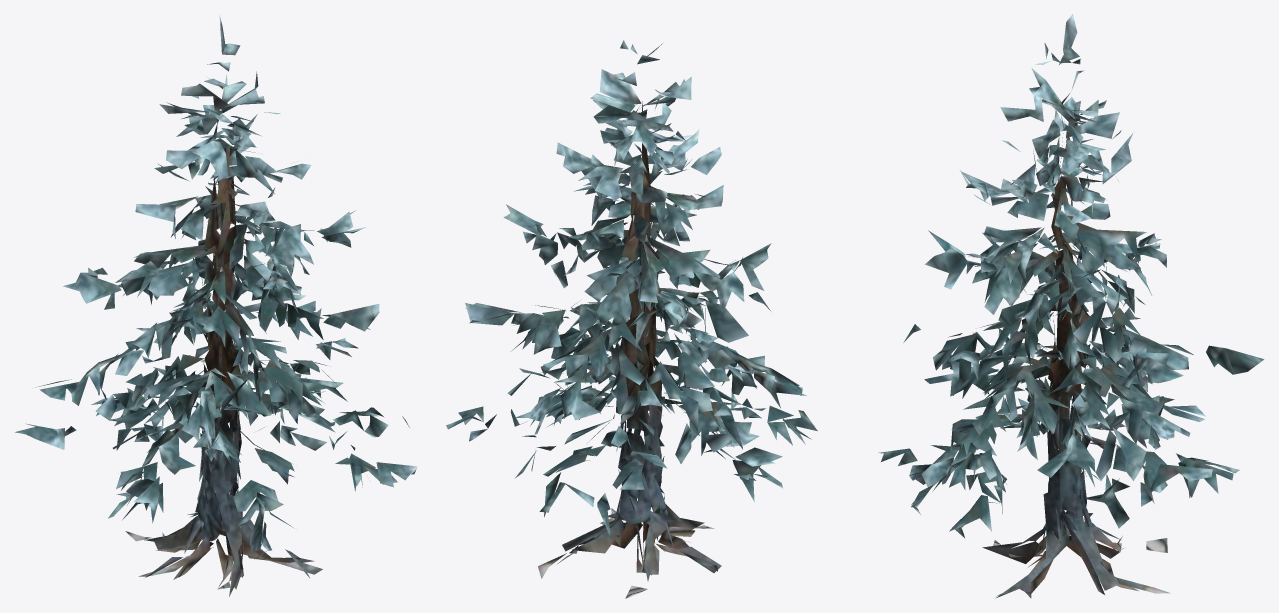
The model's file is abeto_geada_adulta-lod.glb.
3 renders of one model, left to right at view 1: azimuth 30°, elevation 25°; view 2: azimuth 150°, elevation 25°; view 3: azimuth 270°, elevation 25°, orthographic. The views are drawn at different scales.
Parts seen in each view (by area): view 1: geometry_0.004; view 2: geometry_0.004; view 3: geometry_0.004.
Boxes of the visible parts, x1,y1,x2,y2 form: geometry_0.004: [15, 15, 417, 596]; geometry_0.004: [446, 40, 817, 598]; geometry_0.004: [878, 14, 1264, 598].
Size of the model in its own units: 0.6496 by 0.9806 by 0.6165.
1 material, 1 textured.
